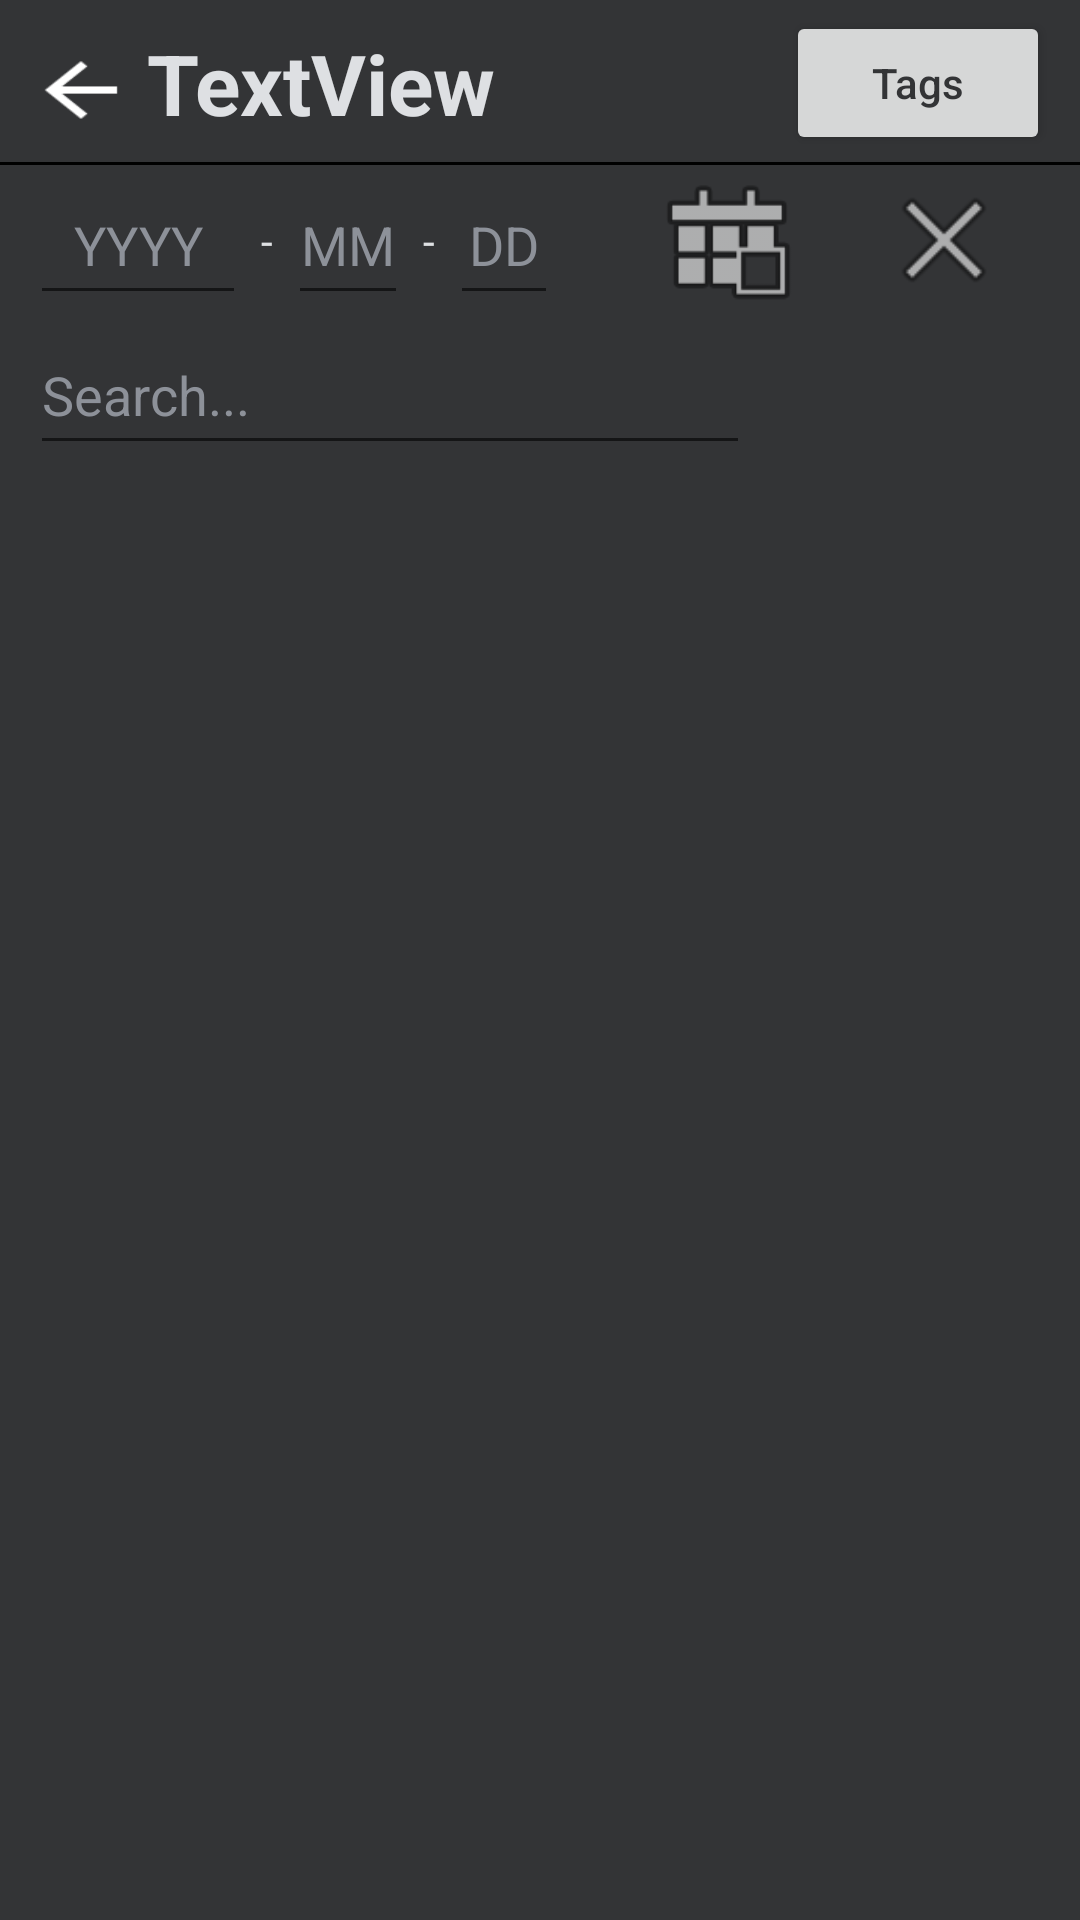

Where icons sit on this 1080 × 1920 app screen, as (x1=x1, y1=y1, x2=x2, y2=y2):
today: (x1=671, y1=188, x2=785, y2=296)
